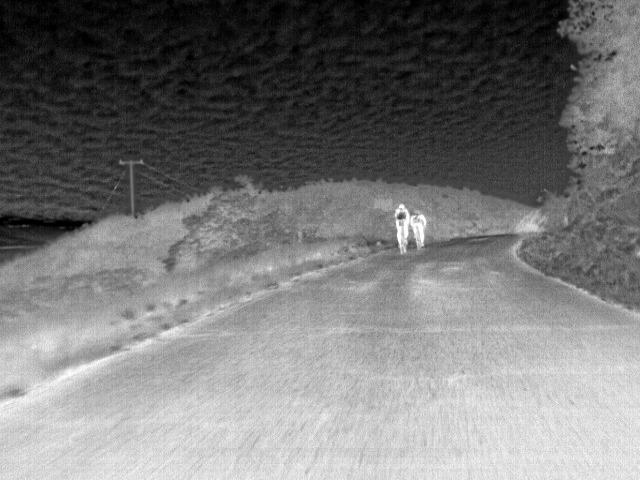person: (395, 202, 410, 230), (410, 209, 428, 232)
